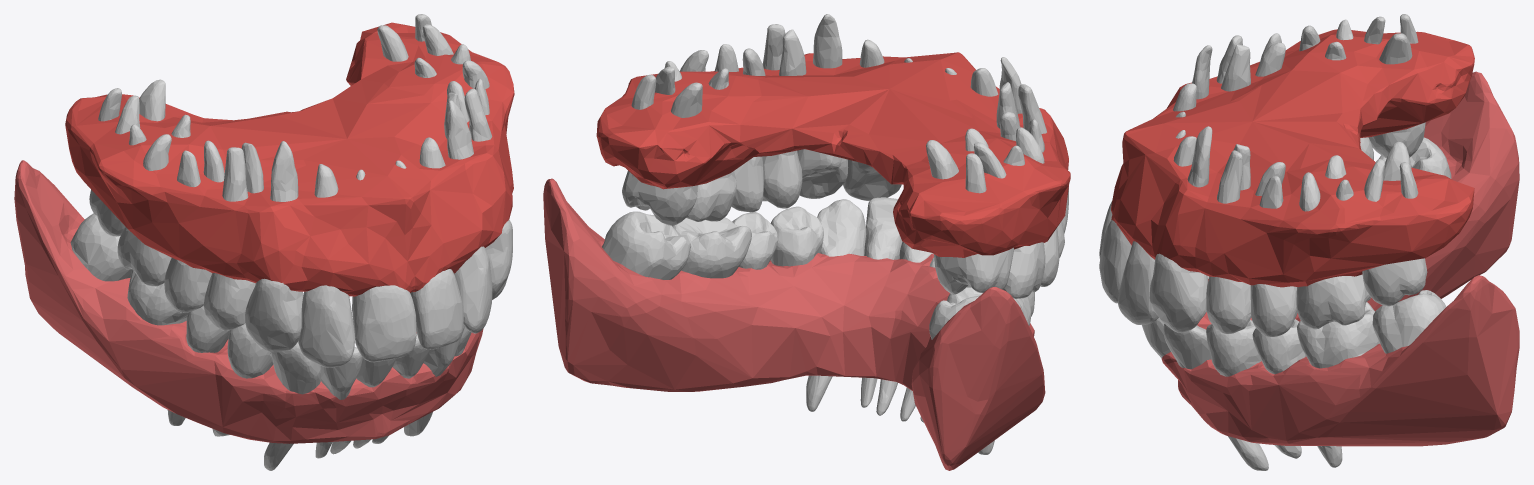
File: muluut.fbx
3 renders of one model, left to right at view 1: azimuth 30°, elevation 25°; view 2: azimuth 150°, elevation 25°; view 3: azimuth 270°, elevation 25°, orthographic. The views are drawn at different scales.
Parts seen in each view (by area): view 1: FMA59763, FMA59764, FMA55798, FMA55680, FMA55681, FMA55689, FMA55682, FMA55688, FMA55698, FMA55683, FMA55697, FMA55799 (+14 smaller); view 2: FMA59764, FMA59763, FMA55697, FMA55700, FMA55703, FMA55690, FMA55704, FMA55799, FMA55698, FMA55687, FMA55699, FMA55693 (+10 smaller); view 3: FMA59763, FMA59764, FMA55699, FMA55799, FMA55700, FMA55690, FMA55691, FMA55704, FMA55683, FMA55703, FMA55697, FMA55693 (+10 smaller).
Part boxes in pixels (x1,y1,x2,y2): FMA59763: [65, 22, 514, 296]; FMA59764: [14, 160, 483, 443]; FMA55798: [245, 141, 303, 352]; FMA55680: [298, 164, 355, 367]; FMA55681: [352, 169, 416, 362]; FMA55689: [203, 142, 263, 330]; FMA55682: [395, 160, 463, 349]; FMA55688: [164, 140, 224, 312]; FMA55698: [117, 114, 190, 286]; FMA55683: [419, 137, 492, 333]; FMA55697: [89, 79, 165, 236]; FMA55799: [447, 100, 512, 299]; FMA59764: [543, 178, 1045, 470]; FMA59763: [596, 52, 1070, 257]; FMA55697: [926, 140, 1013, 294]; FMA55700: [622, 66, 702, 225]; FMA55703: [602, 211, 690, 279]; FMA55690: [762, 24, 806, 208]; FMA55704: [672, 217, 751, 278]; FMA55799: [797, 14, 848, 198]; FMA55698: [965, 127, 1045, 298]; FMA55687: [806, 199, 866, 411]; FMA55699: [664, 50, 736, 221]; FMA55693: [770, 206, 823, 266]; FMA59763: [1111, 29, 1474, 287]; FMA59764: [1161, 71, 1519, 446]; FMA55699: [1296, 155, 1370, 329]; FMA55799: [1149, 126, 1212, 332]; FMA55700: [1362, 141, 1427, 306]; FMA55690: [1206, 144, 1251, 333]; FMA55691: [1250, 162, 1297, 337]; FMA55704: [1297, 302, 1379, 368]; FMA55683: [1118, 136, 1196, 324]; FMA55703: [1372, 290, 1446, 353]; FMA55697: [1364, 14, 1425, 158]; FMA55693: [1206, 319, 1301, 458].
Bounding box in the file's own units: 7.11 × 5.41 × 5.88.
